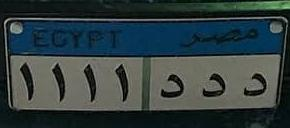1: (50, 61, 68, 102), (113, 62, 131, 102), (18, 60, 36, 100), (84, 62, 98, 105)
daal: (240, 68, 272, 102), (158, 70, 189, 101), (199, 73, 229, 99)
